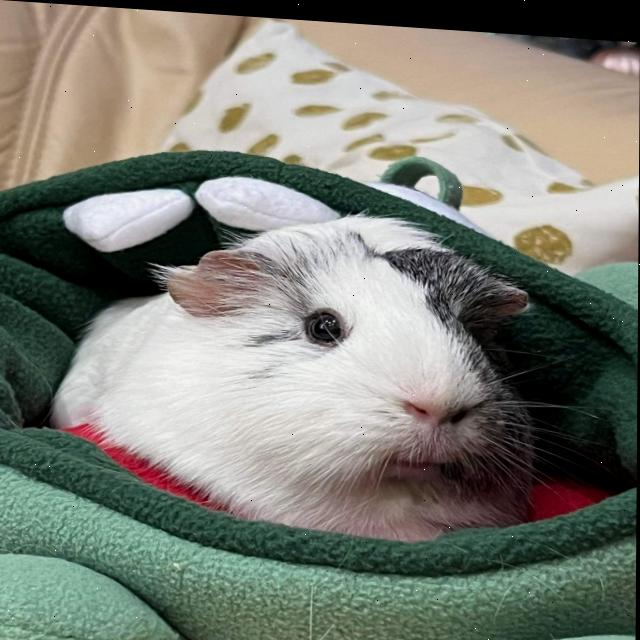guinea pig: (44, 188, 540, 546)
